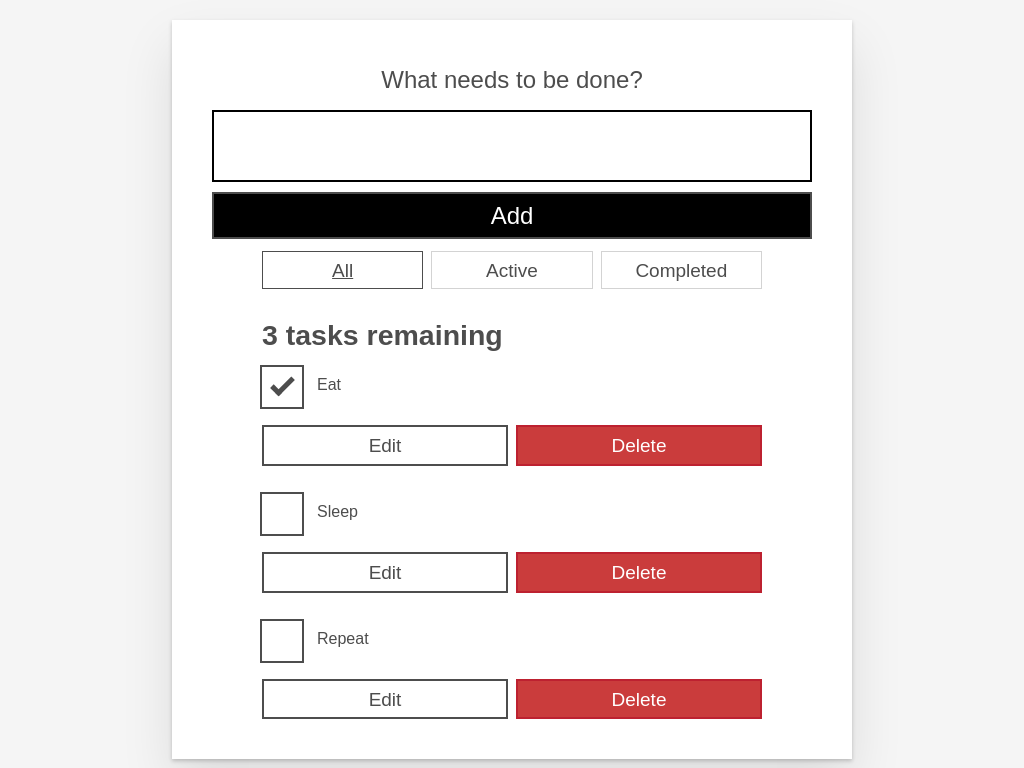
Test: Modifying a task › Deleting Task
Step 1. Click the button "Delete" below "Sleep" → (639, 573), box x1=516 y1=552 x2=762 y2=593
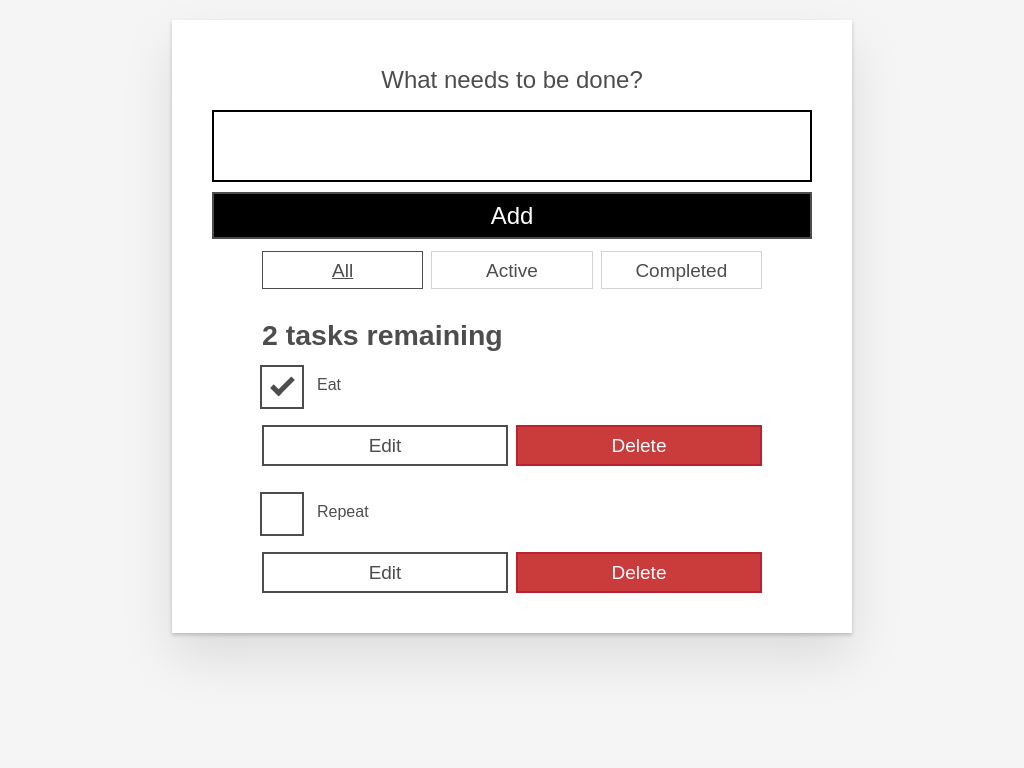
expect the checkbox "Sleep" is gone: met
